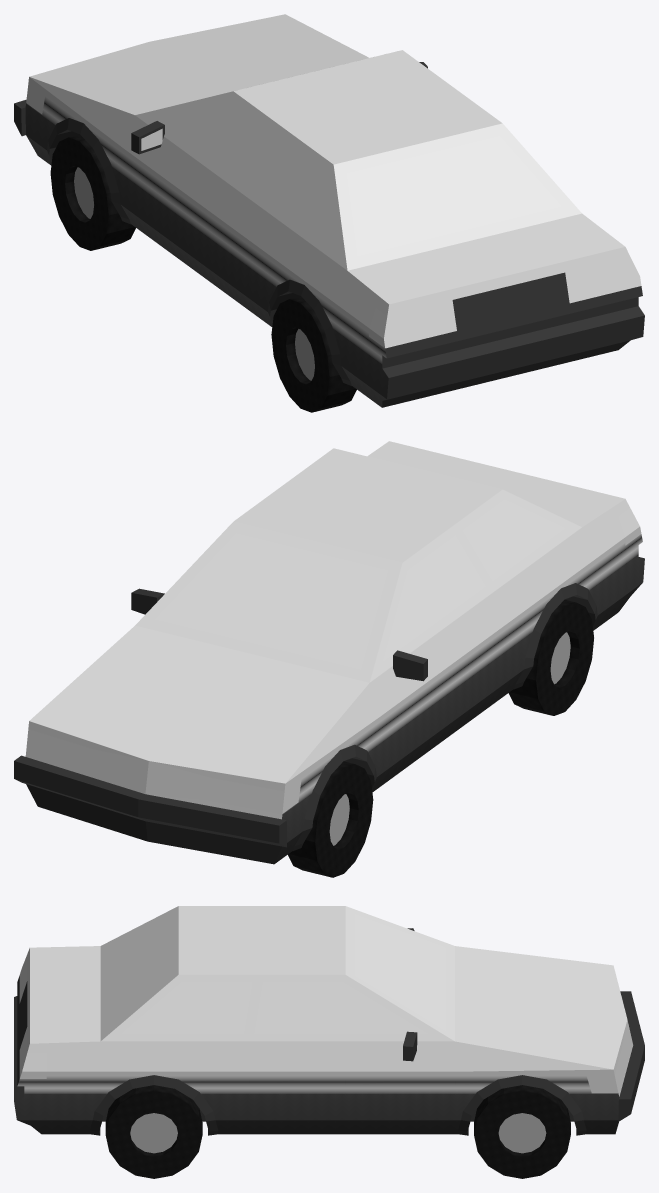
Rendered from Car.fbx.
3 renders of one model, top to bottom at view 1: azimuth 30°, elevation 25°; view 2: azimuth 150°, elevation 25°; view 3: azimuth 270°, elevation 25°, orthographic. The views are drawn at different scales.
Parts seen in each view (by area): view 1: Car, Wheel.FL, Wheel.BL; view 2: Car, Wheel.BL, Wheel.FL; view 3: Car, Wheel.BR, Wheel.FR.
Part boxes in pixels (box(x1,y1,x2,y2)): Car: box(14, 14, 644, 407); Wheel.FL: box(50, 134, 135, 250); Wheel.BL: box(271, 296, 356, 412); Car: box(14, 441, 644, 864); Wheel.BL: box(508, 599, 593, 715); Wheel.FL: box(288, 761, 373, 877); Car: box(14, 906, 644, 1135); Wheel.BR: box(105, 1085, 202, 1178); Wheel.FR: box(474, 1085, 570, 1178).
Size of the model in its own units: 1.84 by 4.13 by 1.33.
